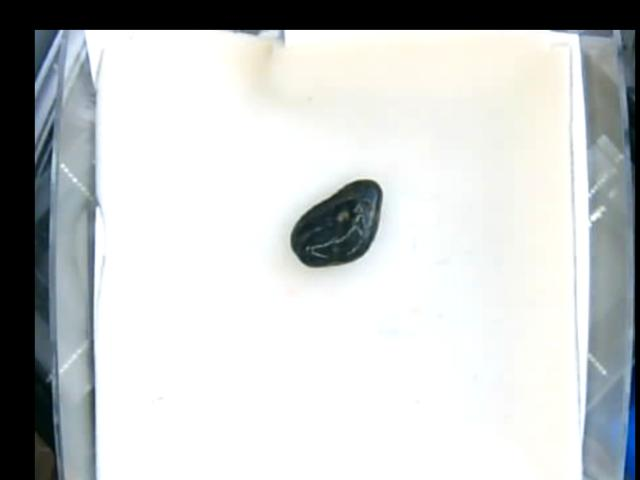Pebble: (289, 178, 382, 269)
